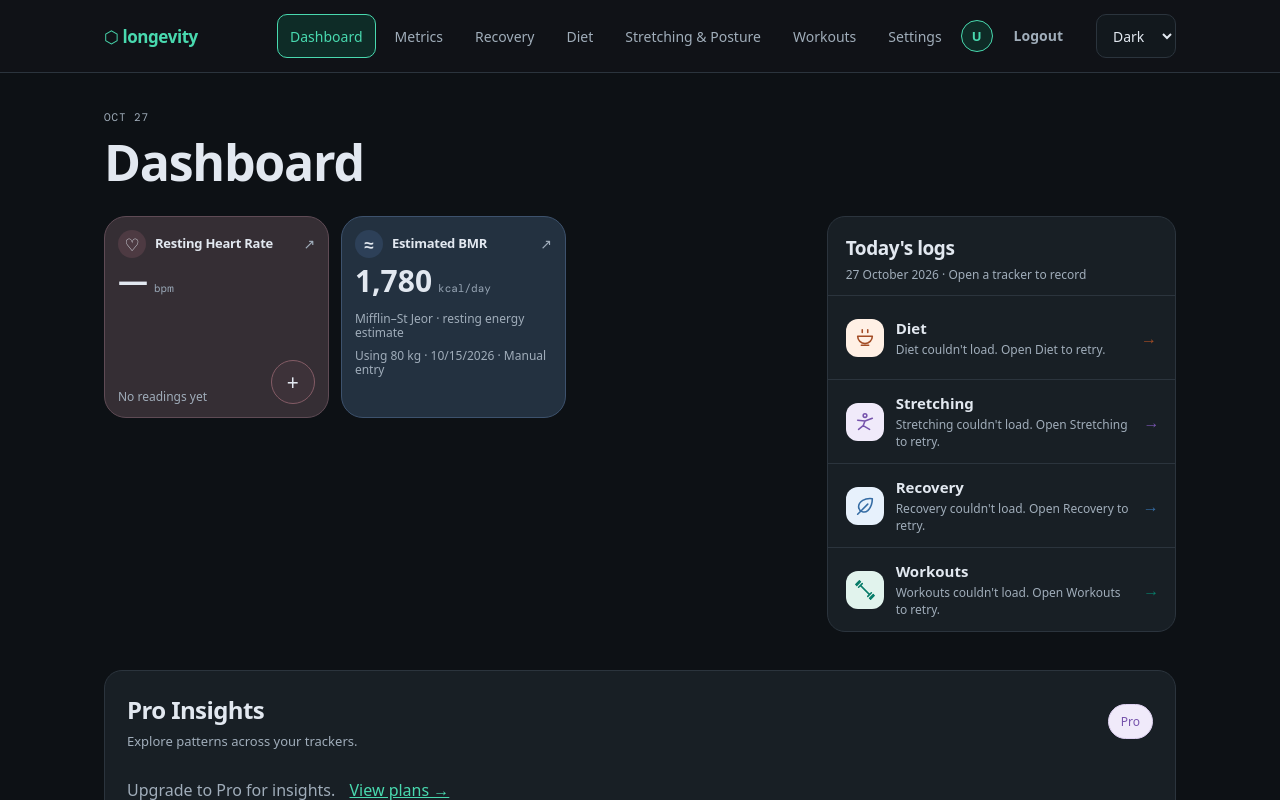
Test: dashboard route › shows an error when metric entry logging fails
Expected: the heading "Dashboard" is shown, 104,128 -> 364,196
Click the button named "add resting heart rate entry" at {"x": 293, "y": 382}, box 271,360 -> 315,404
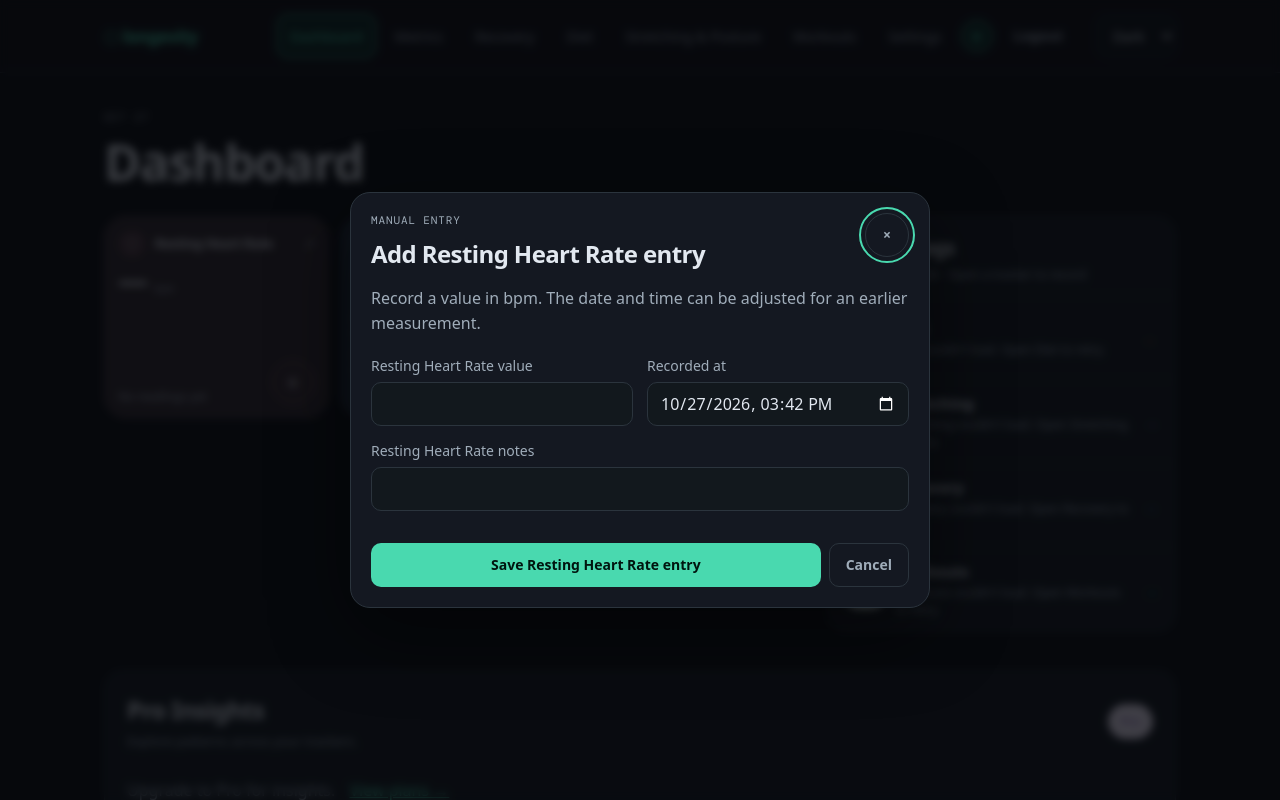
Type "58" into the number field labelled "Resting Heart Rate value" at {"x": 502, "y": 404}, box 371,382 -> 633,426
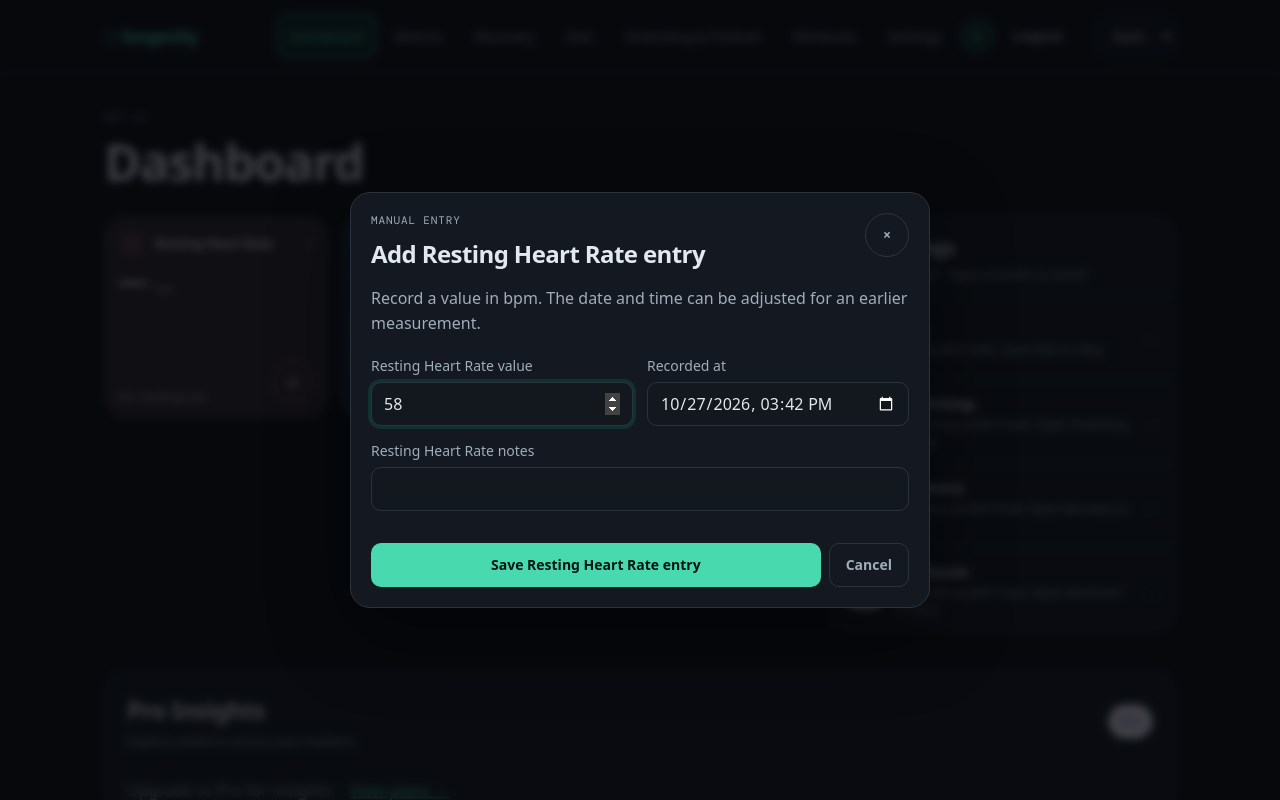
Click the button "Save Resting Heart Rate entry" at {"x": 596, "y": 565}, box 371,543 -> 821,587
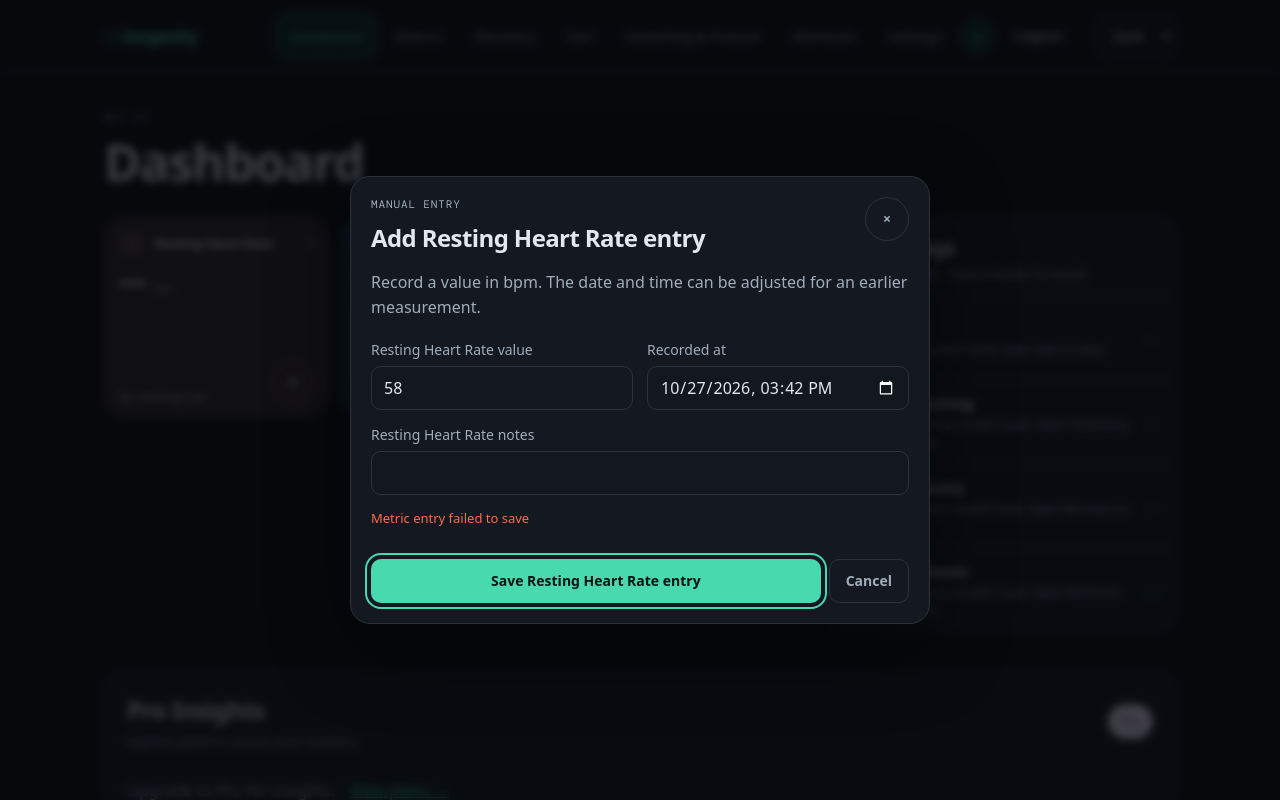
Expected: the text "Metric entry failed to save" is shown, 371,509 -> 529,527
